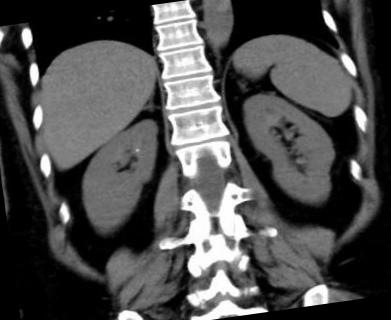Tas_Var: (132, 146, 141, 152)
